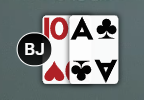10: (41, 14, 69, 43)
a: (69, 14, 96, 44)
